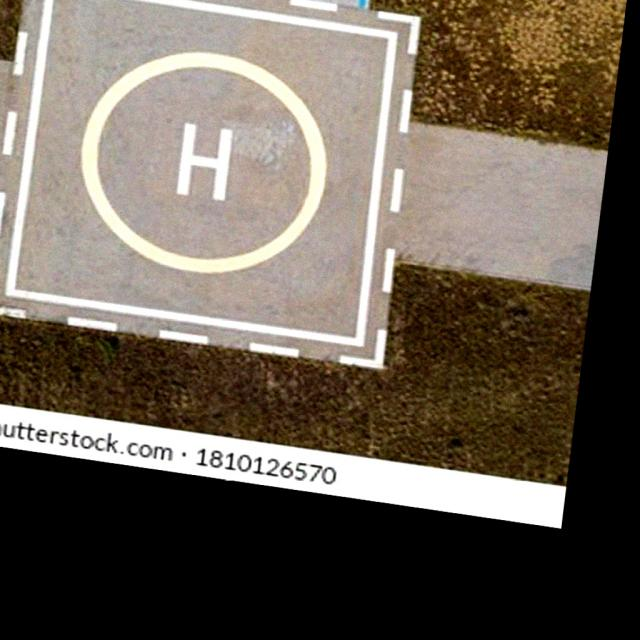helipad: (76, 45, 328, 276)
